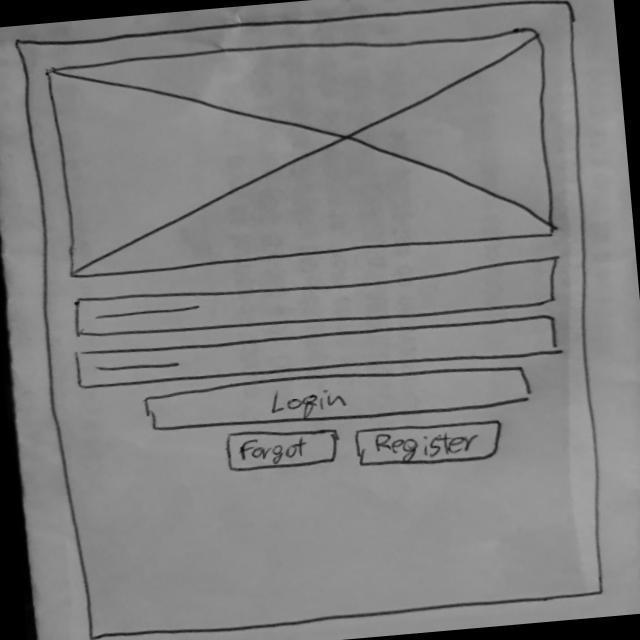button: (134, 354, 548, 442), (348, 414, 510, 477), (217, 422, 347, 479)
container: (4, 1, 620, 640)
image: (41, 19, 568, 285)
input: (64, 307, 574, 402), (69, 254, 569, 350)
